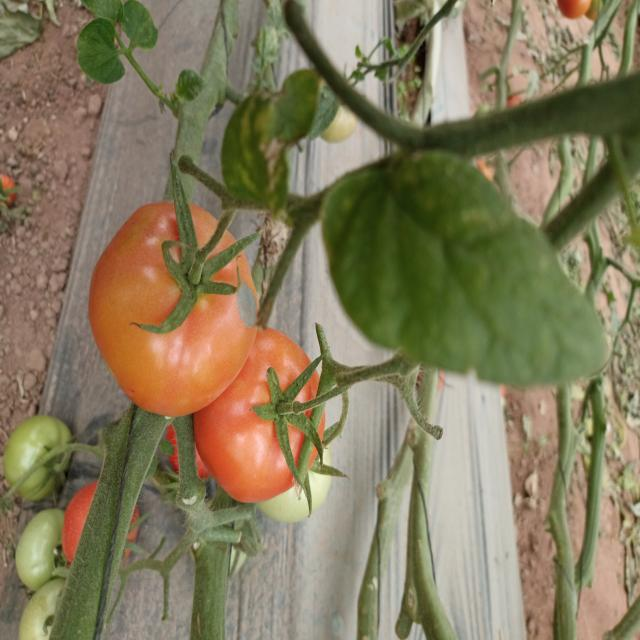Ripe Tomato: (91, 199, 261, 416), (193, 324, 327, 502), (60, 481, 140, 580)
Unripe Tomato: (255, 438, 338, 520), (3, 412, 71, 502), (9, 506, 75, 583), (16, 581, 76, 640)
